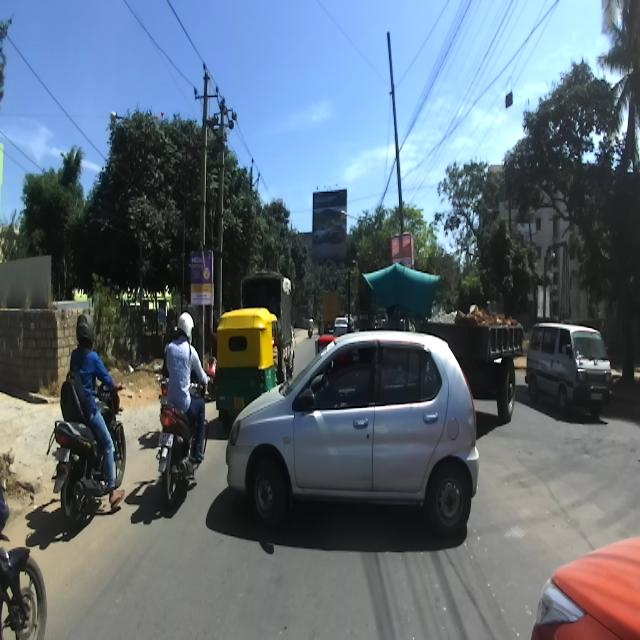car ahead at: (234, 314, 479, 546)
electric pole ahead at: (182, 55, 240, 302)
motorcycle ahead at: (54, 310, 132, 536), (158, 306, 215, 509)
